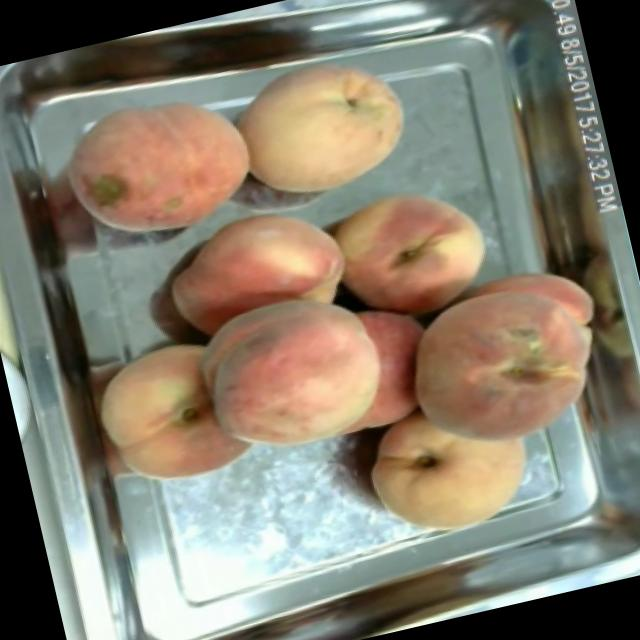Fruit: (382, 244, 634, 474), (40, 66, 273, 262), (186, 283, 403, 475), (216, 34, 425, 217), (81, 319, 273, 505), (349, 387, 552, 559), (314, 168, 509, 344), (146, 186, 361, 338)
